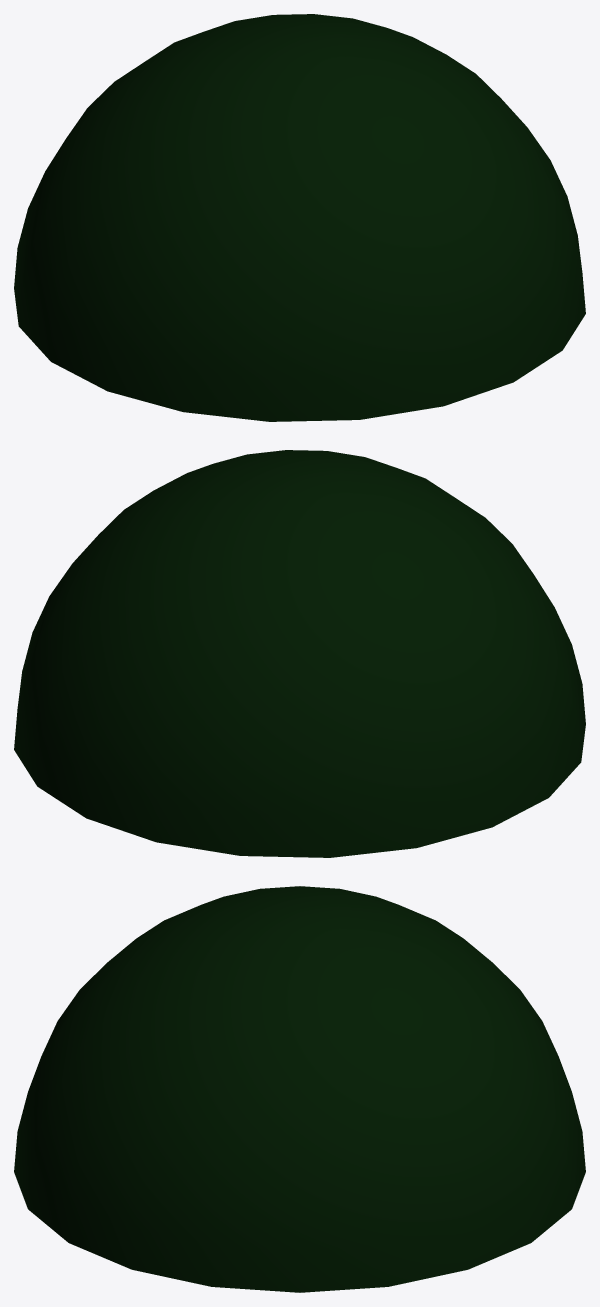
The model's file is socket_light.fbx.
3 views of the same model, one above another, from view 1: azimuth 30°, elevation 25°; view 2: azimuth 150°, elevation 25°; view 3: azimuth 270°, elevation 25° (orthographic).
Parts seen in each view (by area): view 1: pSphere1; view 2: pSphere1; view 3: pSphere1.
Part boxes in pixels (box(x1,y1,x2,y2)): pSphere1: box(14, 14, 585, 421); pSphere1: box(14, 450, 585, 857); pSphere1: box(14, 886, 585, 1292).
Bounding box in the file's own units: 2 × 1 × 2.
